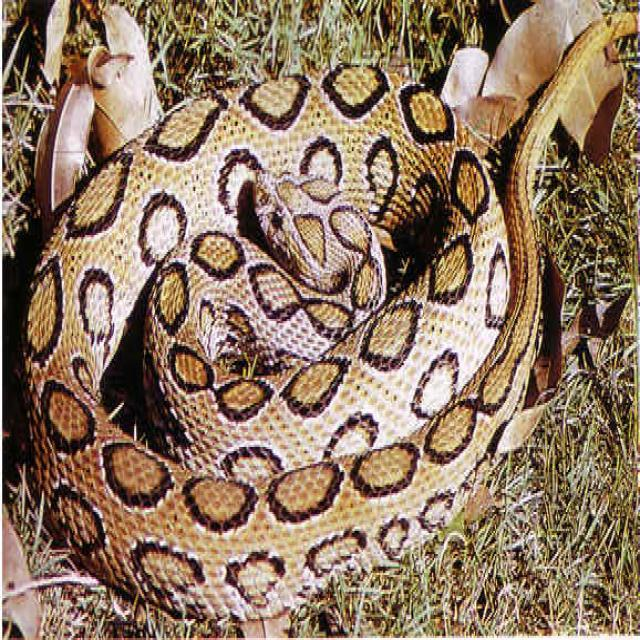Snake: (19, 6, 636, 632)
